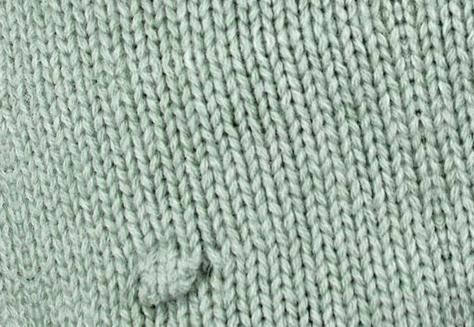knot: (130, 249, 214, 309)
